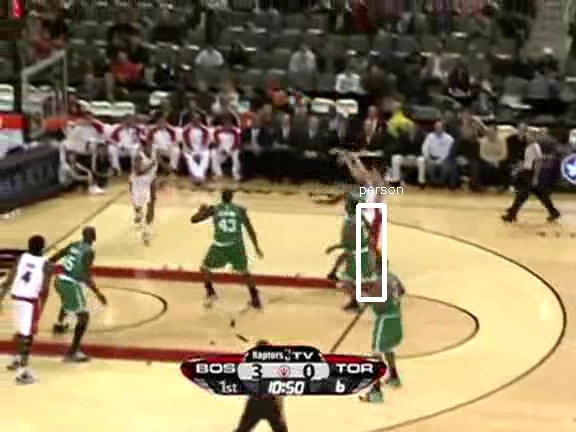person: (342, 209, 376, 290), (341, 209, 375, 290), (343, 209, 377, 290), (342, 208, 376, 289), (342, 210, 376, 291)
target_negative: (523, 77, 571, 422), (414, 179, 510, 303), (246, 241, 330, 377), (514, 142, 570, 324), (201, 187, 272, 281), (44, 369, 271, 396)
